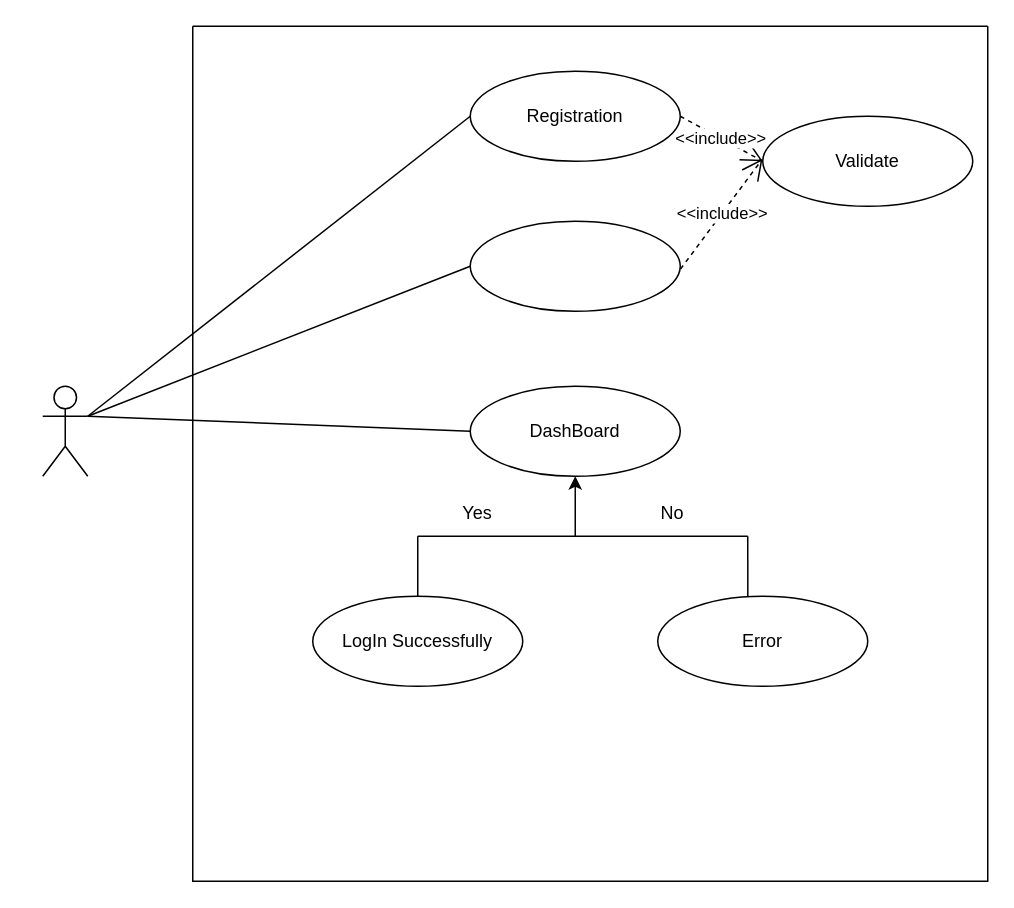
The diagram is 1014 pixels wide and 908 high, and some of its shapes have lost their labels. Here are the shapes that lost their labels. From the top down, the box of each, then its label:
(469, 220, 680, 311): Login
(41, 385, 88, 476): Customer
